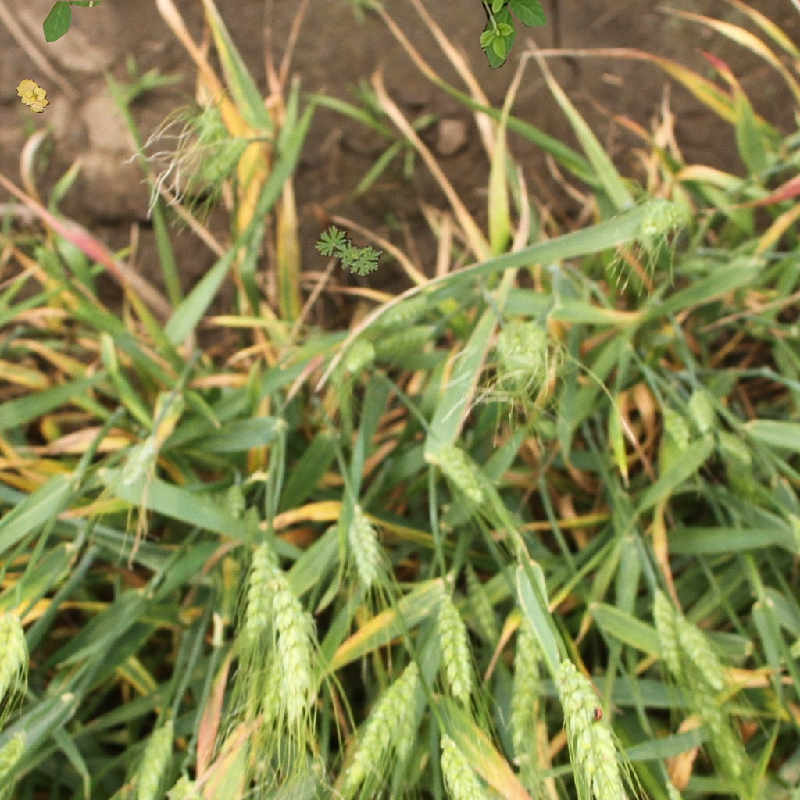spikelet: (241, 538, 321, 724), (550, 656, 637, 799), (339, 658, 421, 794), (679, 678, 751, 781), (504, 610, 548, 758), (431, 585, 478, 706), (236, 537, 286, 646), (434, 730, 502, 800), (492, 314, 558, 386), (428, 439, 492, 506), (337, 502, 386, 589), (678, 615, 730, 692), (1, 603, 33, 723), (644, 590, 684, 678), (630, 194, 694, 245), (203, 133, 248, 198), (657, 404, 694, 450), (1, 731, 26, 798), (375, 327, 434, 353), (376, 299, 434, 325)
weed: (466, 1, 557, 72), (309, 210, 389, 288), (43, 1, 102, 42), (16, 79, 50, 113)
